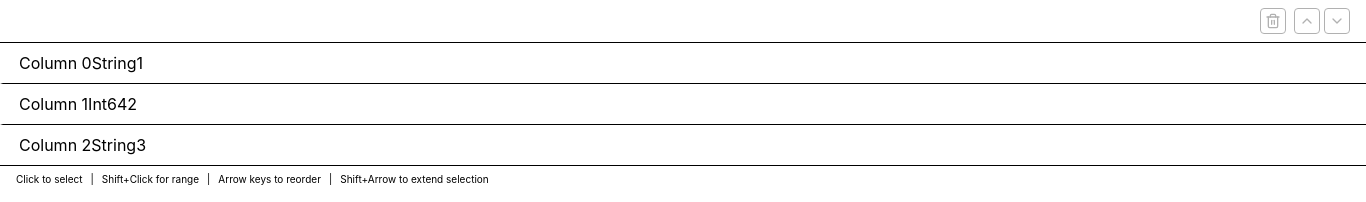
Test case: ConfigColumnSelector › delete button › delete button is enabled when items are selected
The image size is (1366, 202).
// Select an item
What coordinates should you click on to do the following:
click the option with test id "item-col-1"
I would click on:
 (54, 104)
Its box is [0,83,1365,124].
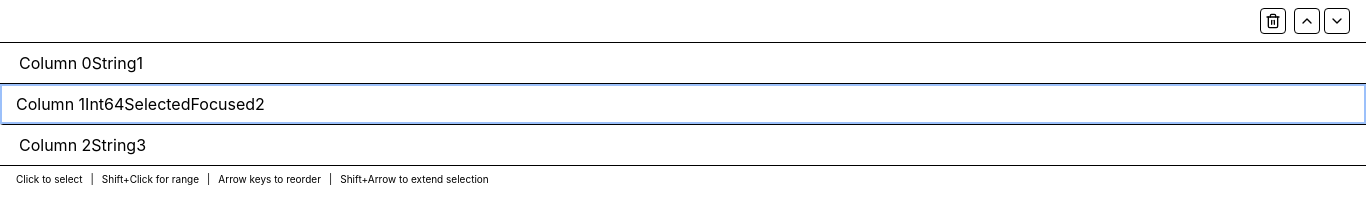
Result: the button named "delete 1 selected" is enabled at [1260,8,1286,34]
